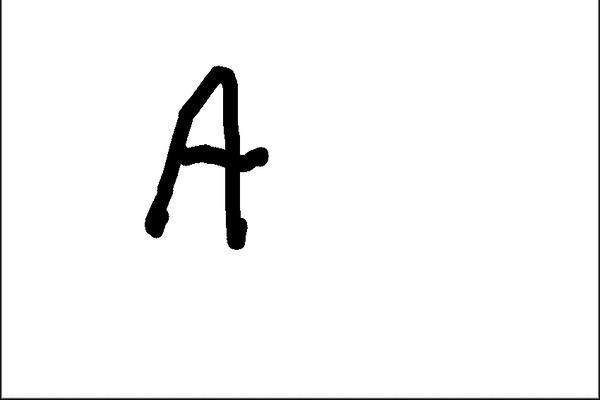A: (135, 60, 267, 255)
